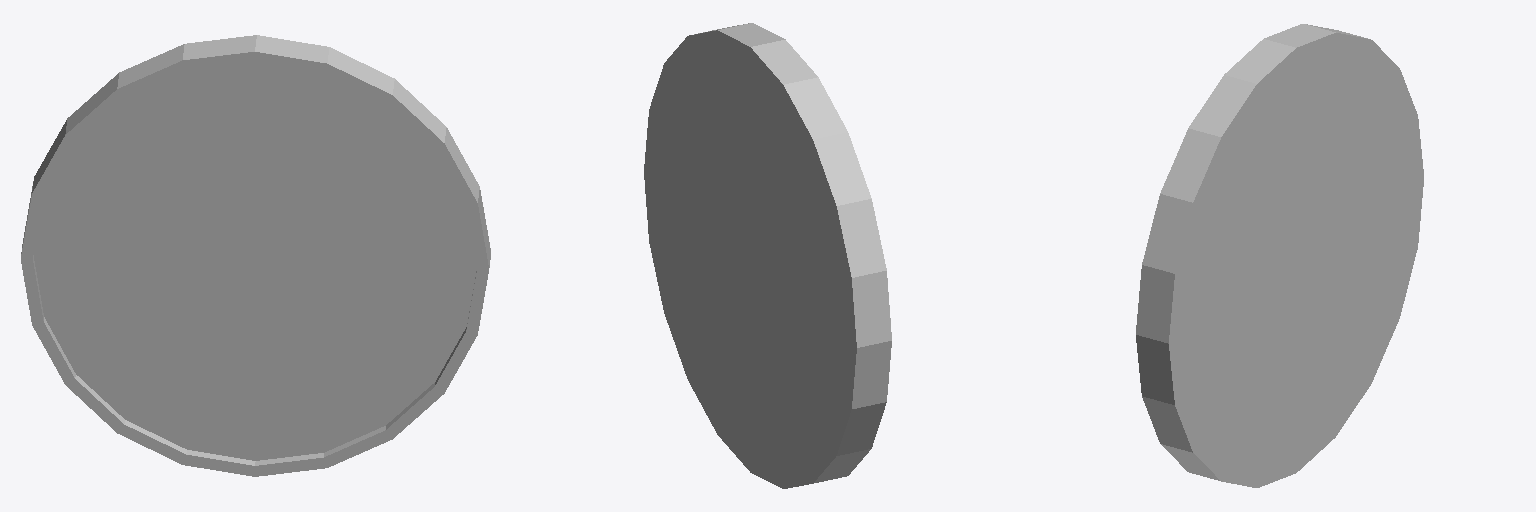
Rendered from coin 6.obj.
3 renders of one model, left to right at view 1: azimuth 30°, elevation 25°; view 2: azimuth 150°, elevation 25°; view 3: azimuth 270°, elevation 25°, orthographic.
Visible parts, largest first — view 1: pCylinder1; view 2: pCylinder1; view 3: pCylinder1.
Part boxes in pixels (x1,y1,x2,y2): pCylinder1: (21, 35, 490, 476); pCylinder1: (644, 23, 891, 488); pCylinder1: (1136, 24, 1423, 487).
Size of the model in its own units: 1.77 by 2 by 1.23.